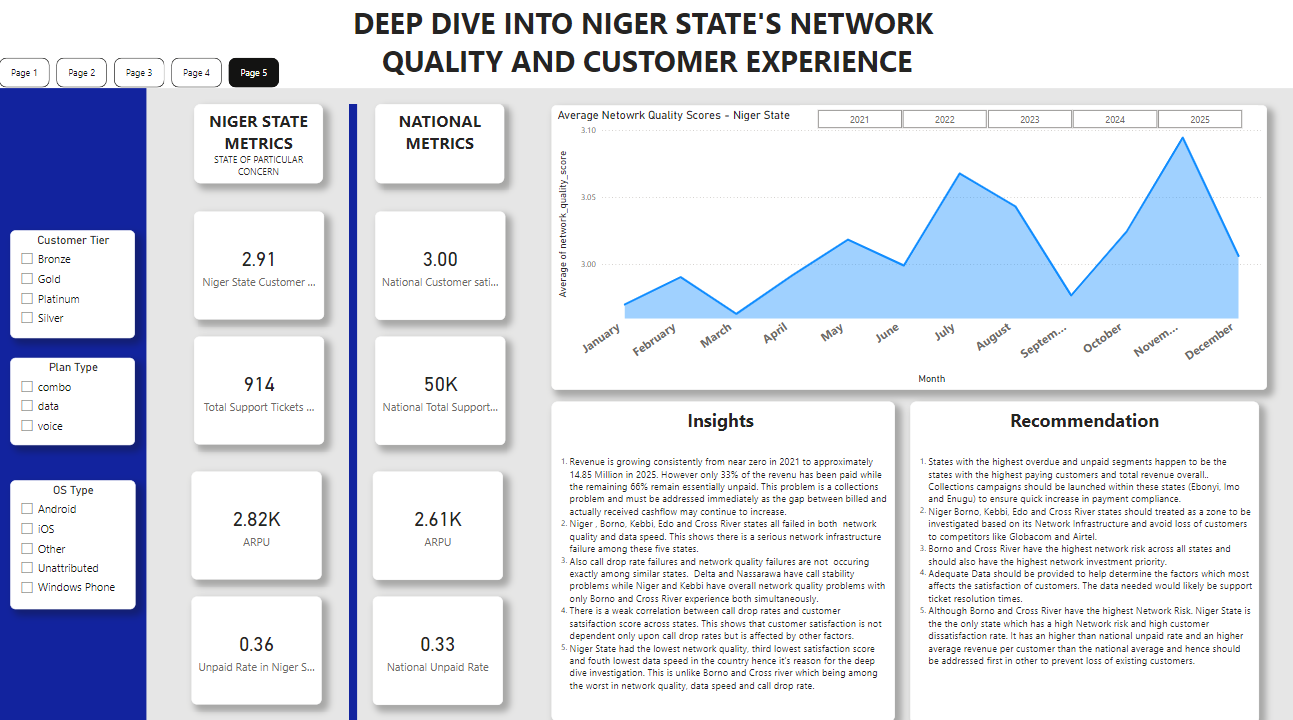

The dashboard page shown, as its layout file describes it:
{"tool":"powerbi","page":{"name":"Page 5","canvas":[1920,1080],"ordinal":4},"visuals":[{"type":"textbox","box":[0,113.2,218.2,967.4],"z":0},{"type":"areaChart","title":"Average Netowrk Quality Scores  - Niger State ","fields":{"Y":["Avg(mtn_final_telecom_cleaned_data (2).network_quality_score)"],"Category":["mtn_final_telecom_cleaned_data (2).billing_date.Variation.Date Hierarchy.Month"]},"box":[818.7,157.9,1060,422],"z":0,"group":"g1"},{"type":"card","fields":{"Values":["mtn_final_telecom_cleaned_data (2).ARPU"]},"box":[285.5,699.9,192.9,159.7],"z":0,"group":"g3"},{"type":"card","fields":{"Values":["mtn_final_telecom_cleaned_data (2).ARPU"]},"box":[553.7,699.9,192.9,160.9],"z":0,"group":"g2"},{"type":"group","id":"g1","title":"Group 1","box":[818.7,157.9,1060,422],"z":1000},{"type":"card","fields":{"Values":["mtn_final_telecom_cleaned_data (2).Unpaid Rate"]},"box":[285.2,884.3,192.9,159.7],"z":1000,"group":"g3"},{"type":"card","fields":{"Values":["mtn_final_telecom_cleaned_data (2).Unpaid Rate"]},"box":[553.7,885.7,192.9,160.9],"z":1000,"group":"g2"},{"type":"textbox","box":[518.7,156.4,12.3,922.1],"z":2000},{"type":"card","fields":{"Values":["Avg(mtn_final_telecom_cleaned_data (2).customer_satisfaction)"]},"box":[289.7,314.8,192.9,159.7],"z":2000,"group":"g3"},{"type":"card","fields":{"Values":["Avg(mtn_final_telecom_cleaned_data (2).customer_satisfaction)"]},"box":[557.8,314.8,192.9,160.9],"z":2000,"group":"g2"},{"type":"group","id":"g2","title":"Group 2","box":[553.7,314.8,196.3,731.5],"z":3000},{"type":"card","fields":{"Values":["Sum(mtn_final_telecom_cleaned_data (2).support_tickets_count)"]},"box":[289.3,499.2,192.9,159.7],"z":3000,"group":"g3"},{"type":"card","fields":{"Values":["Sum(mtn_final_telecom_cleaned_data (2).support_tickets_count)"]},"box":[557.8,500.6,192.9,160.9],"z":3000,"group":"g2"},{"type":"slicer","fields":{"Values":["mtn_final_telecom_cleaned_data (2).billing_date.Variation.Date Hierarchy.Year"]},"box":[1187.7,158.1,678.6,34.3],"z":3001,"group":"g1"},{"type":"group","id":"g3","title":"Group 3","box":[285.2,314.8,196.3,729.6],"z":4000},{"type":"textbox","box":[288.2,156.4,191.4,117.3],"z":5000},{"type":"textbox","box":[557.8,156.4,191.4,117.3],"z":6000},{"type":"textbox","box":[818.6,595.7,508.6,474.3],"z":7000},{"type":"textbox","box":[0,0,1920.4,131.7],"z":8000},{"type":"slicer","title":"Plan Type","fields":{"Values":["mtn_final_telecom_cleaned_data (2).plan_type"]},"box":[16.7,531.5,185.2,129.6],"z":9000},{"type":"slicer","title":"Customer Tier","fields":{"Values":["mtn_final_telecom_cleaned_data (2).customer_tier"]},"box":[16,342.2,185.1,160.4],"z":10000},{"type":"slicer","title":"OS Type","fields":{"Values":["mtn_final_telecom_cleaned_data (2).os_type"]},"box":[16.5,712.2,185.2,191.4],"z":11000},{"type":"pageNavigator","box":[0,87,418.5,44.4],"z":13000},{"type":"textbox","box":[1350,596.3,527.8,477.8],"z":14000}]}

Visuals, with their boxes on the page's 1920x1080 design canvas (x1, y1, x2, y2). These are canvas units, not pixel positions in the 1293x720 screenshot, which may show the page scaled, cropped or inside an application window:
textbox: l=0, t=113, r=218, b=1081
"Average Netowrk Quality Scores  - Niger State " areaChart: l=819, t=158, r=1879, b=580
card - mtn_final_telecom_cleaned_data (2).ARPU: l=286, t=700, r=478, b=860
card - mtn_final_telecom_cleaned_data (2).ARPU: l=554, t=700, r=747, b=861
"Group 1" group: l=819, t=158, r=1879, b=580
card - mtn_final_telecom_cleaned_data (2).Unpaid Rate: l=285, t=884, r=478, b=1044
card - mtn_final_telecom_cleaned_data (2).Unpaid Rate: l=554, t=886, r=747, b=1047
textbox: l=519, t=156, r=531, b=1078
card - Avg(mtn_final_telecom_cleaned_data (2).customer_satisfaction): l=290, t=315, r=483, b=474
card - Avg(mtn_final_telecom_cleaned_data (2).customer_satisfaction): l=558, t=315, r=751, b=476
"Group 2" group: l=554, t=315, r=750, b=1046
card - Sum(mtn_final_telecom_cleaned_data (2).support_tickets_count): l=289, t=499, r=482, b=659
card - Sum(mtn_final_telecom_cleaned_data (2).support_tickets_count): l=558, t=501, r=751, b=662
slicer - mtn_final_telecom_cleaned_data (2).billing_date.Variation.Date Hierarchy.Year: l=1188, t=158, r=1866, b=192
"Group 3" group: l=285, t=315, r=482, b=1044
textbox: l=288, t=156, r=480, b=274
textbox: l=558, t=156, r=749, b=274
textbox: l=819, t=596, r=1327, b=1070
textbox: l=0, t=0, r=1920, b=132
"Plan Type" slicer: l=17, t=532, r=202, b=661
"Customer Tier" slicer: l=16, t=342, r=201, b=503
"OS Type" slicer: l=16, t=712, r=202, b=904
pageNavigator: l=0, t=87, r=418, b=131
textbox: l=1350, t=596, r=1878, b=1074
